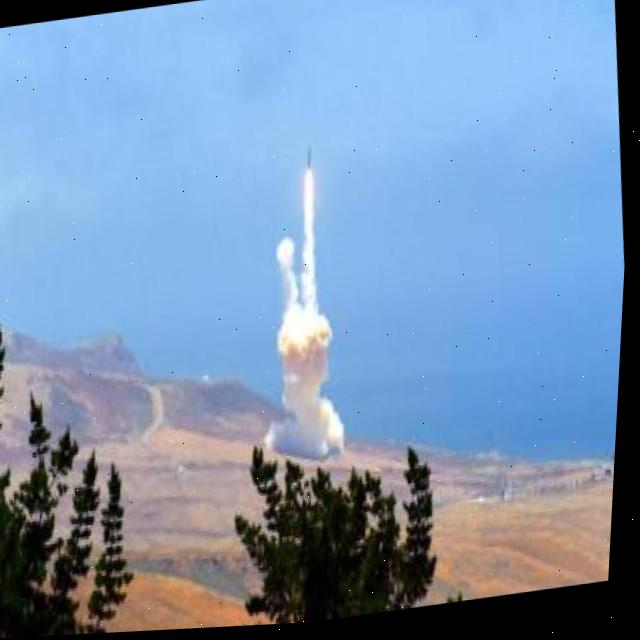missile: (301, 144, 326, 175)
